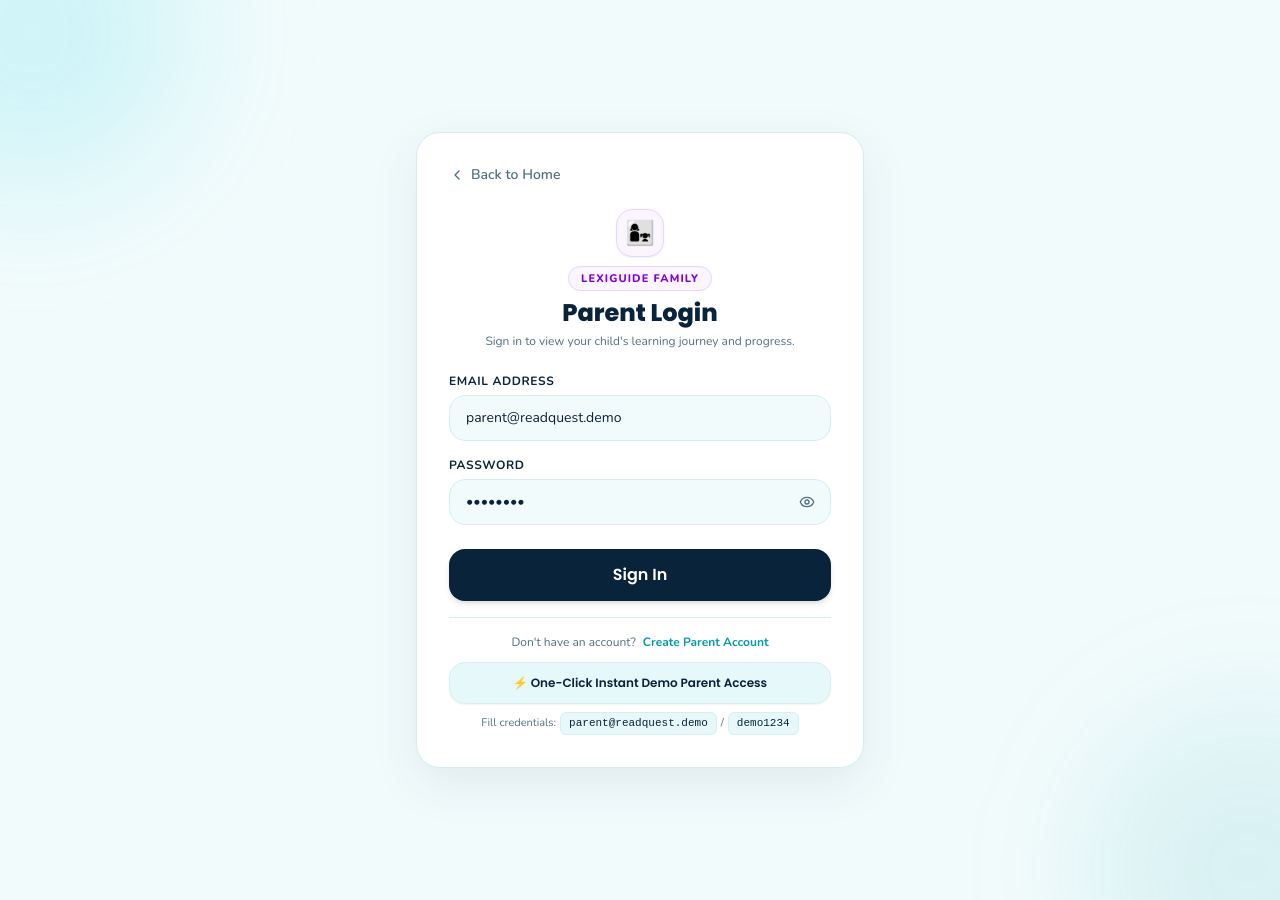
Scenario: Phase 7 / Step 1: login pages enforce real auth and reject invalid or unreachable credentials › Parent login displays error message when backend is unreachable, does not fall back to demo mode
Click the button "Sign In": [640, 575] box [449,549,831,601]
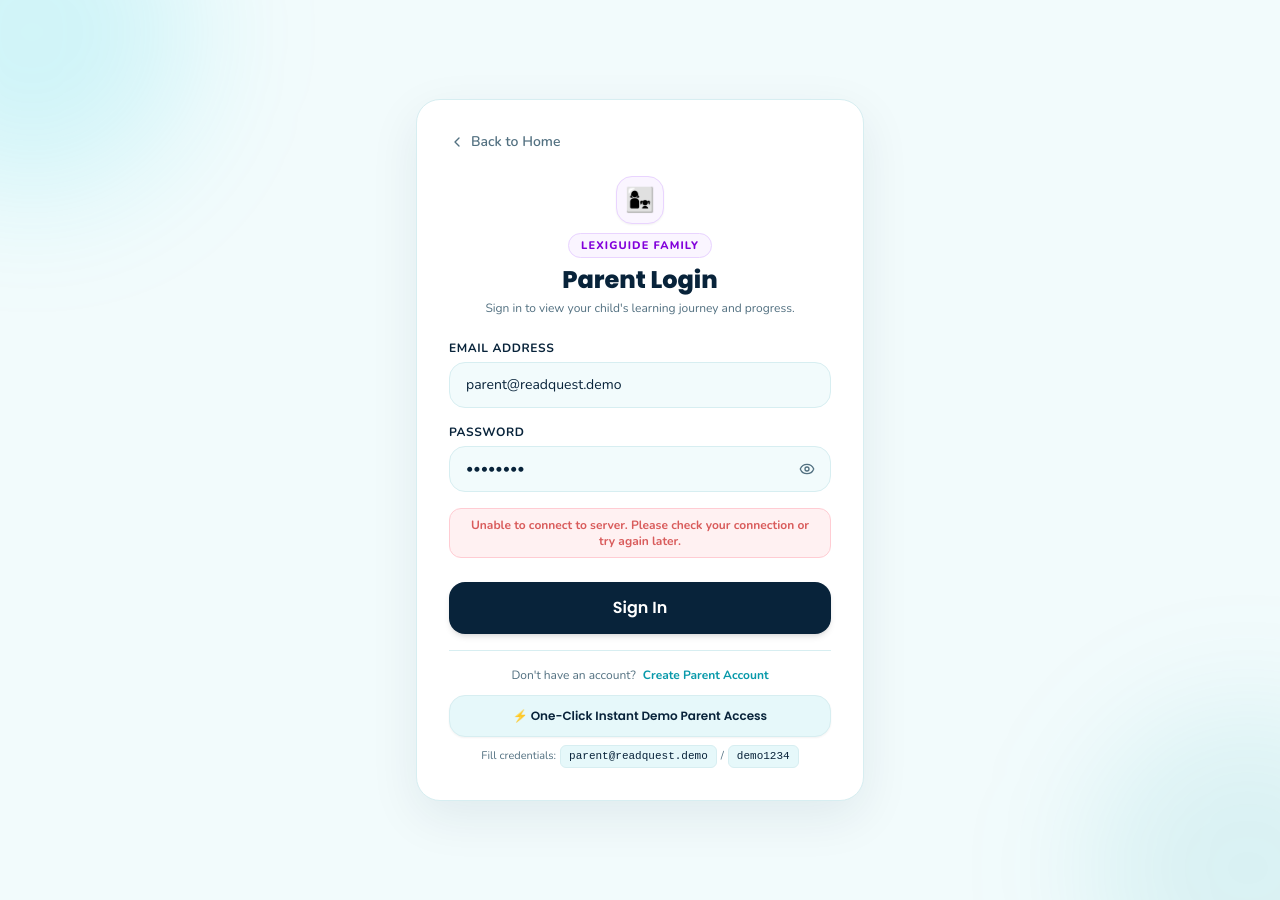
Expected: the text "Unable to connect to server" is shown, [471,517,809,549]
